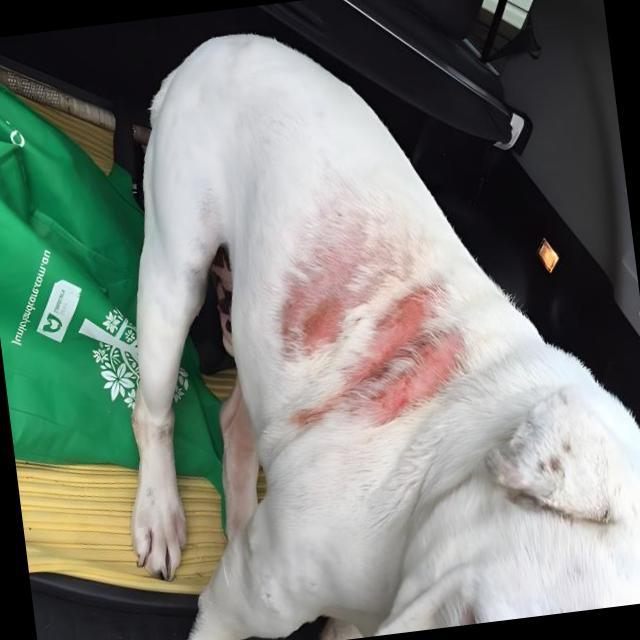allergic dermatitis: (354, 286, 464, 428), (272, 234, 356, 362)
